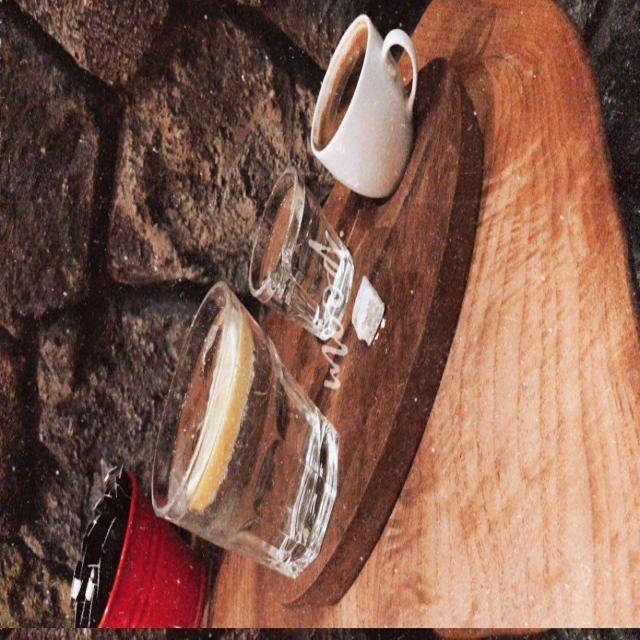cup-handle: (310, 12, 418, 198)
glass-normal: (149, 278, 340, 578), (249, 169, 355, 341)
